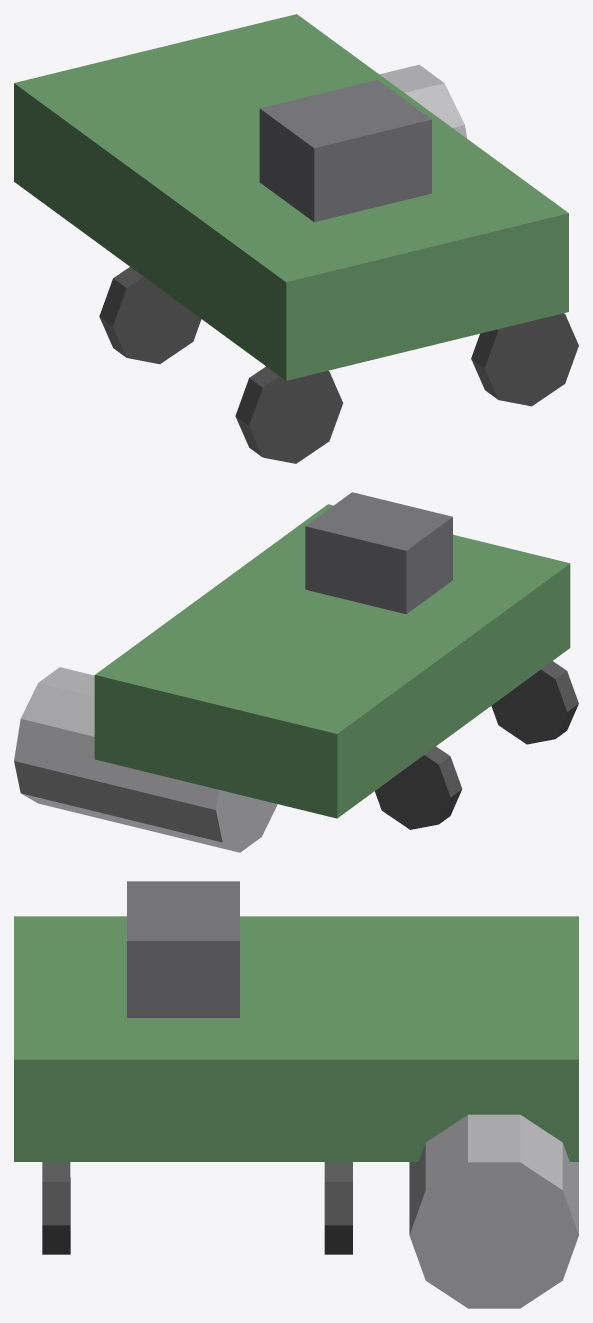
The model's file is aerator_ride.glb.
3 renders of one model, top to bottom at view 1: azimuth 30°, elevation 25°; view 2: azimuth 150°, elevation 25°; view 3: azimuth 270°, elevation 25°, orthographic. The views are drawn at different scales.
Visible parts, largest first — view 1: AeratorRide; view 2: AeratorRide; view 3: AeratorRide.
Boxes of the visible parts, x1,y1,x2,y2 form: AeratorRide: (14, 14, 578, 463); AeratorRide: (14, 492, 578, 852); AeratorRide: (14, 881, 578, 1308).
Size of the model in its own units: 1.7 by 1.1 by 2.
